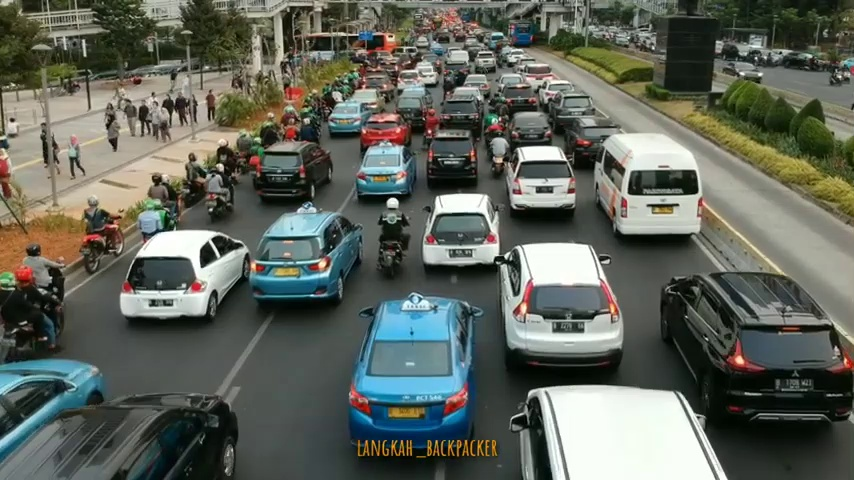car: (659, 271, 854, 422), (510, 379, 725, 480), (1, 391, 238, 480), (351, 290, 481, 448), (496, 244, 627, 374), (124, 227, 249, 327), (593, 132, 701, 242), (247, 203, 363, 304), (1, 358, 103, 459), (421, 192, 501, 266), (504, 145, 576, 219), (253, 143, 334, 203), (357, 145, 414, 197), (565, 118, 622, 167), (291, 33, 392, 60), (428, 130, 476, 185), (440, 95, 482, 137), (361, 115, 410, 150), (550, 91, 595, 129), (508, 111, 553, 145), (328, 101, 369, 137), (397, 92, 427, 127), (349, 88, 386, 116), (501, 84, 537, 112), (723, 61, 763, 86), (539, 80, 575, 107), (451, 86, 484, 112), (363, 74, 394, 101), (525, 64, 551, 90), (497, 73, 524, 98), (507, 20, 532, 47), (462, 74, 491, 96), (444, 61, 468, 86), (398, 70, 423, 92), (415, 64, 437, 85), (474, 50, 495, 71), (513, 59, 534, 79)
motorbike: (1, 270, 66, 360), (78, 196, 126, 274), (21, 241, 64, 313), (377, 198, 410, 278), (138, 199, 179, 250), (148, 173, 182, 226), (203, 166, 236, 217), (182, 152, 207, 204), (216, 139, 239, 184), (235, 131, 255, 171), (491, 131, 507, 178), (422, 110, 439, 147), (303, 119, 319, 151)
